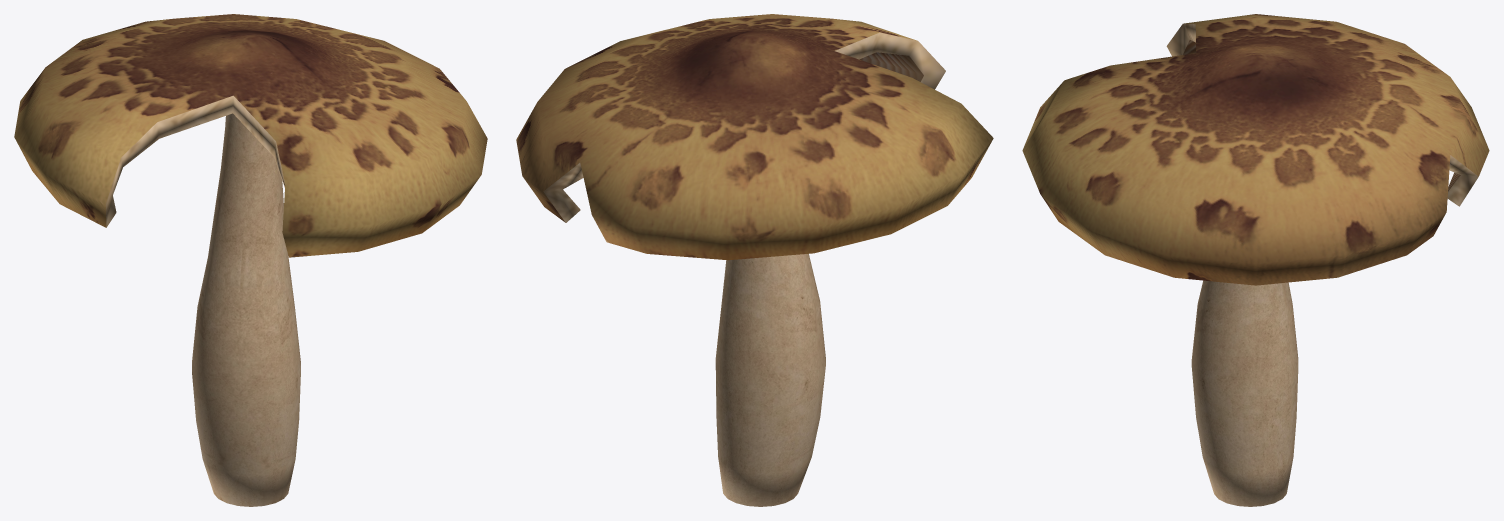
Rendered from mushroom_ver1.FBX.
3 renders of one model, left to right at view 1: azimuth 30°, elevation 25°; view 2: azimuth 150°, elevation 25°; view 3: azimuth 270°, elevation 25°, orthographic. The views are drawn at different scales.
Parts seen in each view (by area): view 1: Sphere001, Cylinder001; view 2: Sphere001, Cylinder001; view 3: Sphere001, Cylinder001.
Part boxes in pixels (x1,y1,x2,y2): Sphere001: (14, 14, 487, 257); Cylinder001: (192, 113, 300, 506); Sphere001: (516, 14, 993, 260); Cylinder001: (715, 253, 825, 506); Sphere001: (1022, 14, 1489, 285); Cylinder001: (1191, 280, 1298, 506).
Size of the model in its own units: 11.81 by 12.29 by 11.84.
